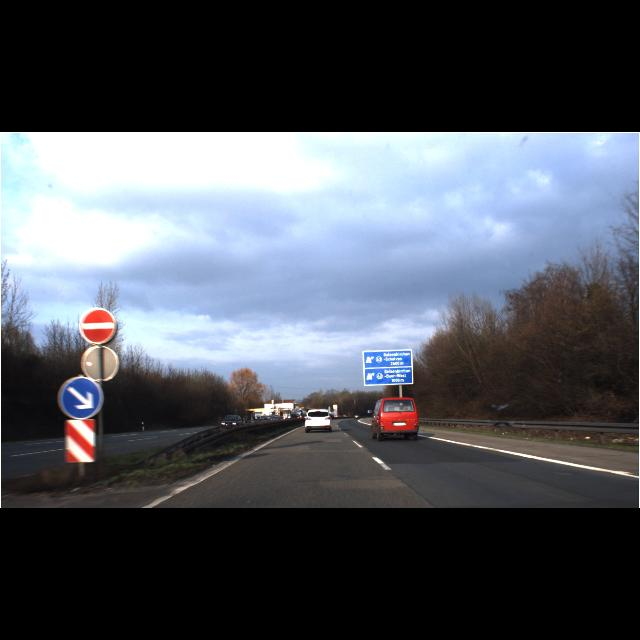mandatory: (60, 378, 102, 420)
other: (80, 308, 116, 344)
